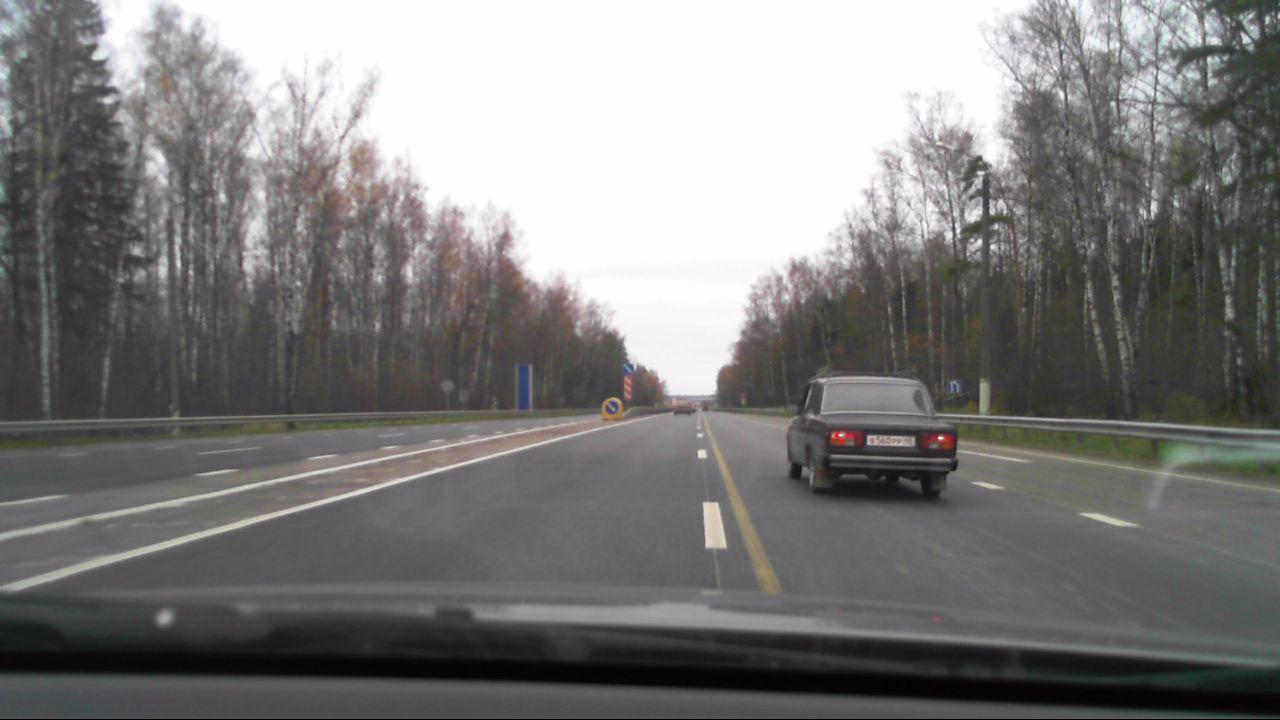4_2_1: (604, 399, 618, 414), (621, 361, 634, 374)
5_15_5: (943, 375, 964, 396)
8_22_1: (624, 375, 633, 400)
